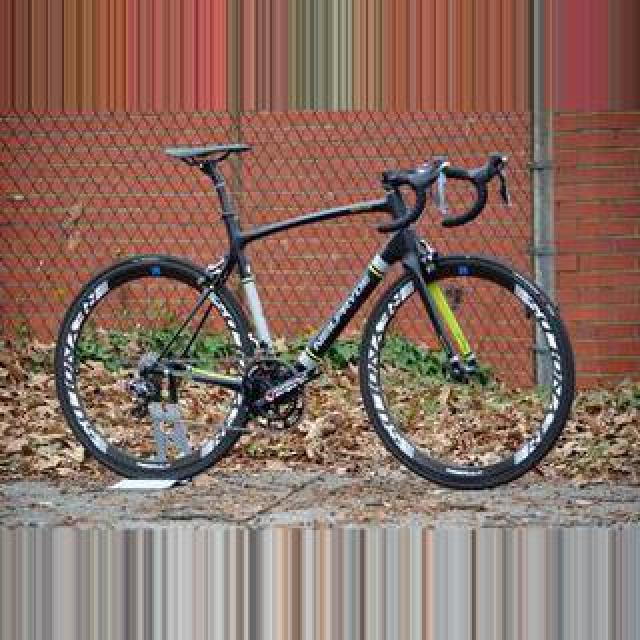Person: (54, 136, 576, 488)
